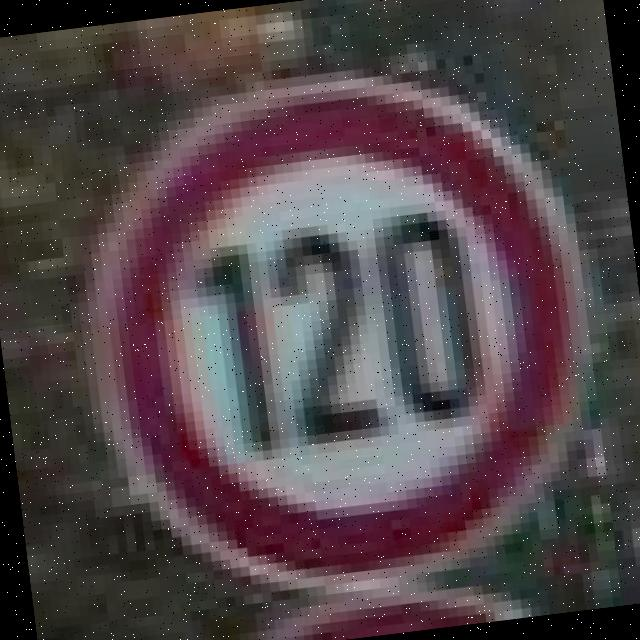Ograniczenie predkosci do 120: (24, 26, 616, 614)
